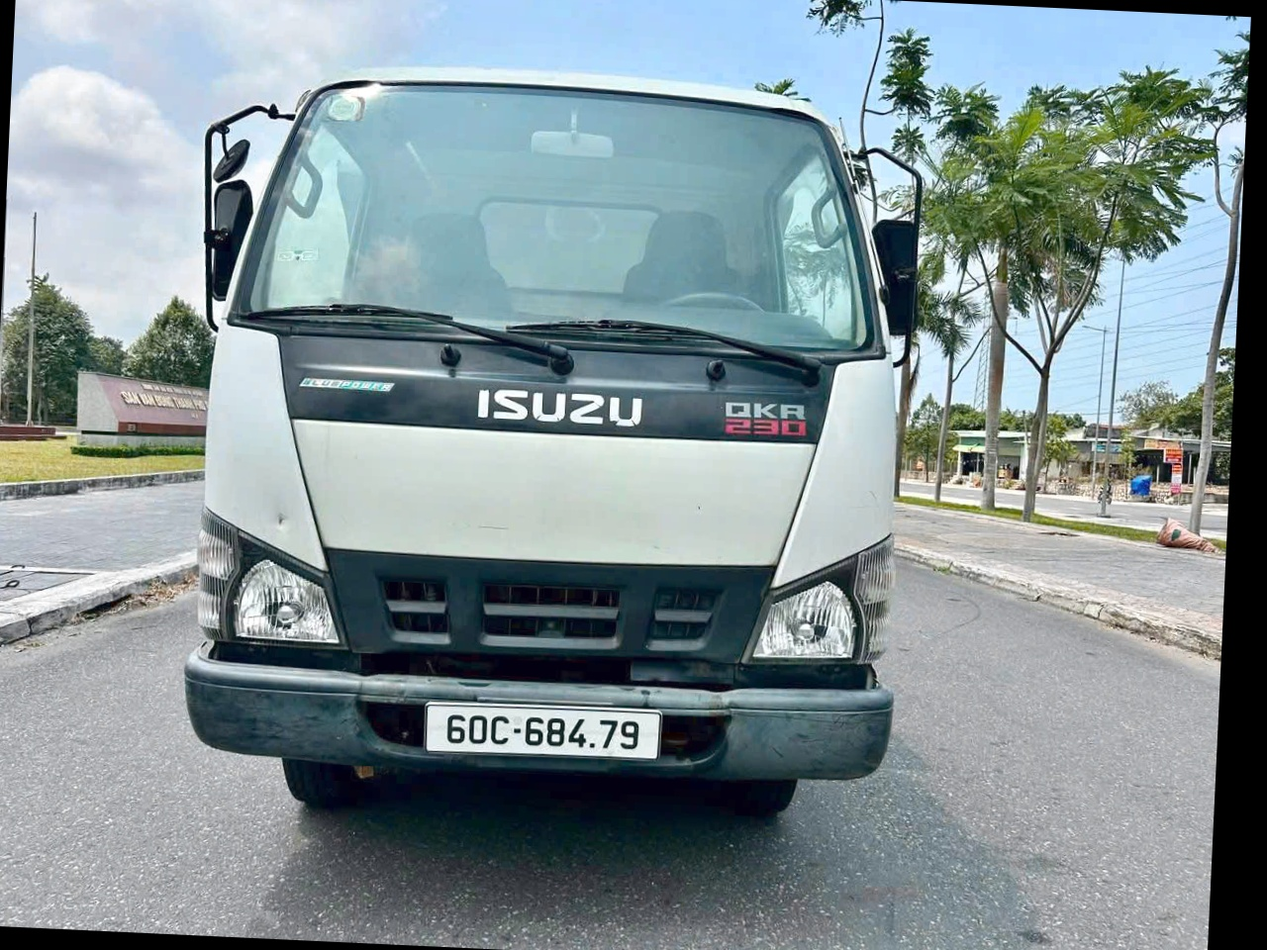Bien-so: (443, 724, 697, 802)
